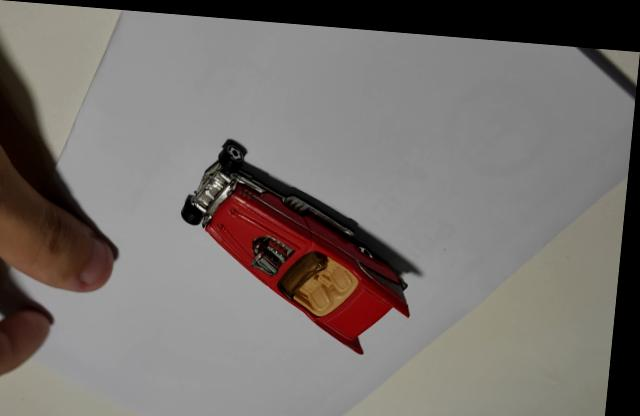03_V8: (185, 133, 417, 347)
